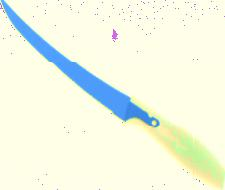Knife: (1, 1, 223, 187)
